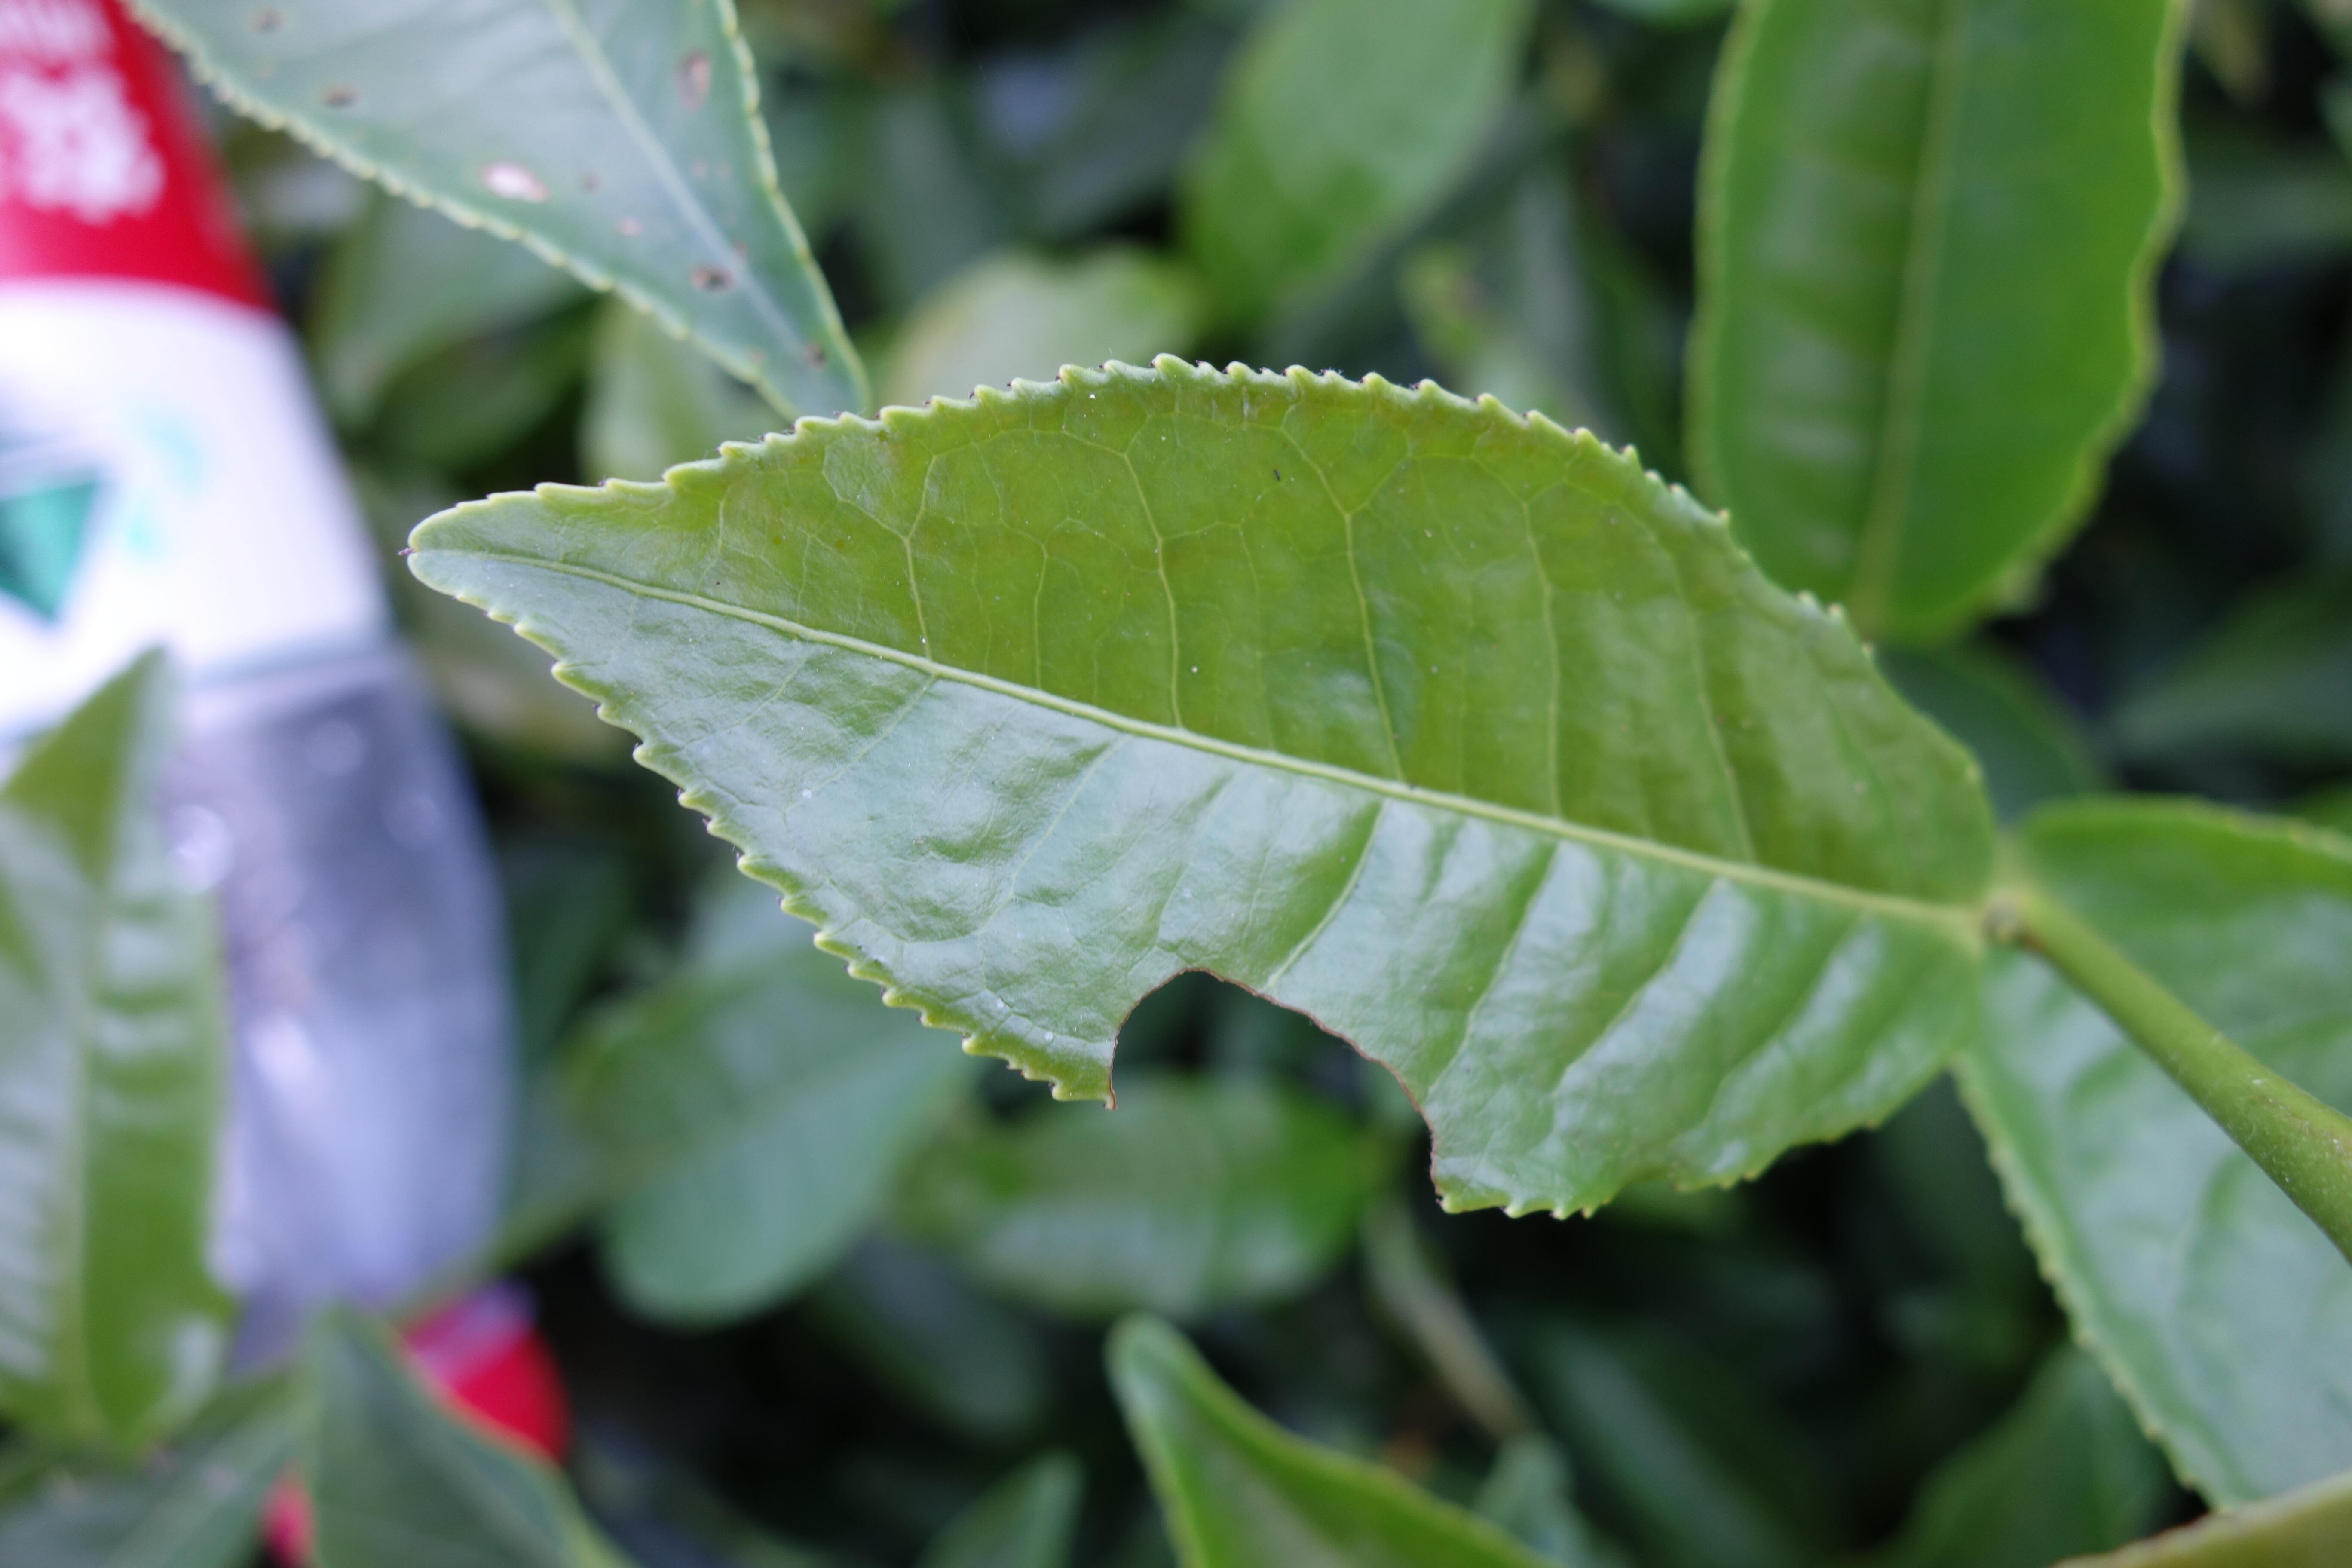chihuo_low: (401, 353, 2014, 1223)
